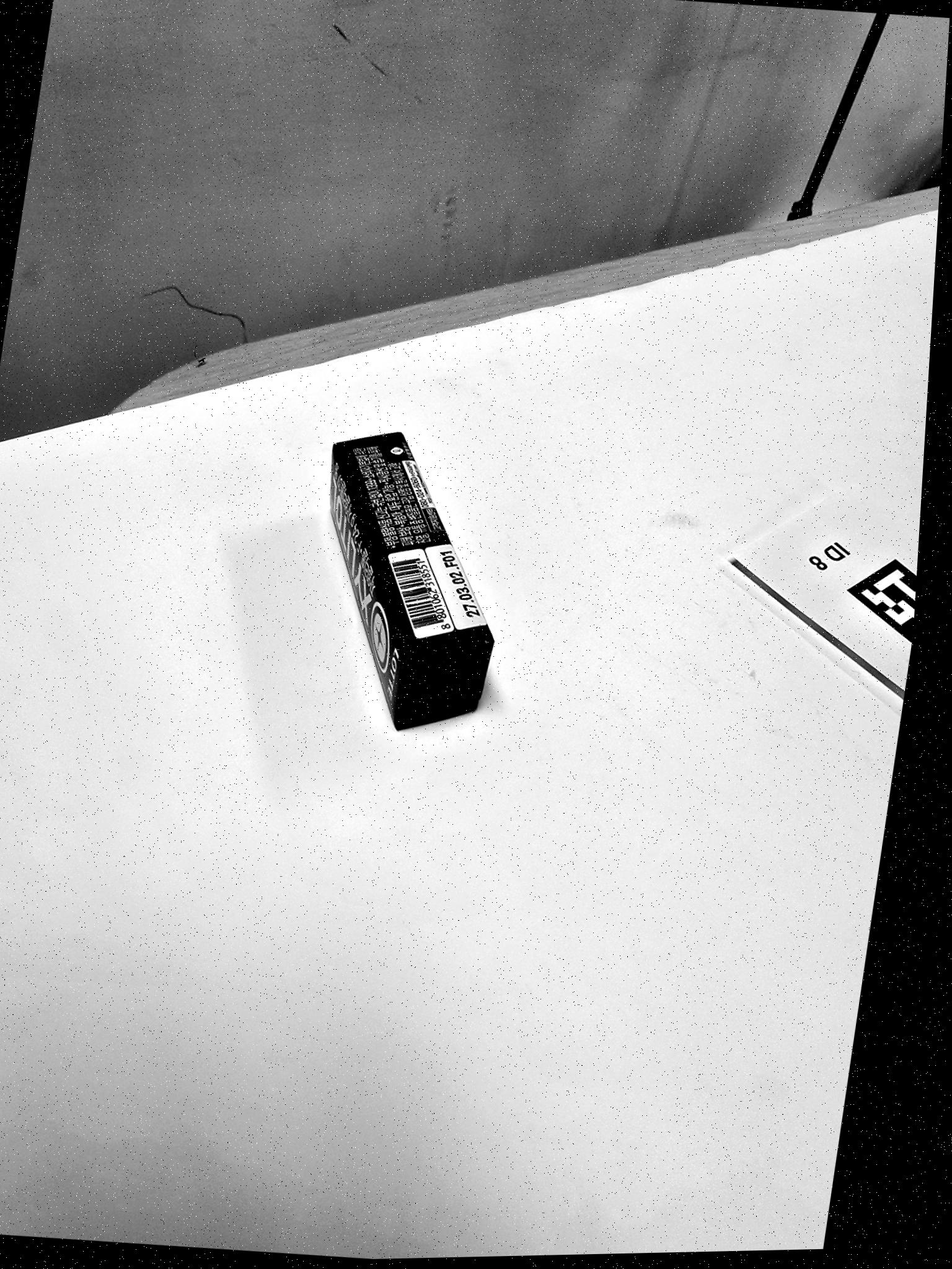gum_green: (330, 433, 493, 729)
